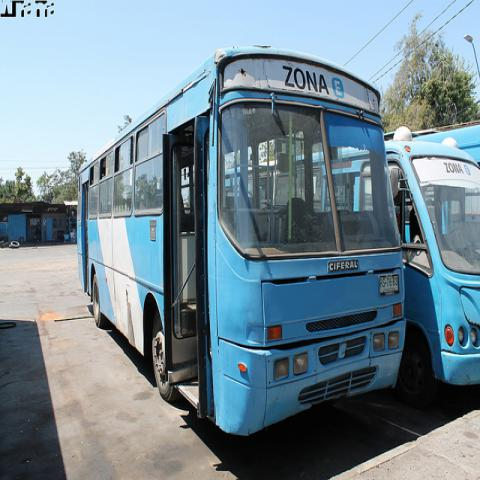bus: (78, 46, 404, 321), (107, 320, 406, 436), (383, 140, 479, 422), (412, 124, 479, 160)
